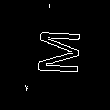M_W: (29, 31, 81, 79)
